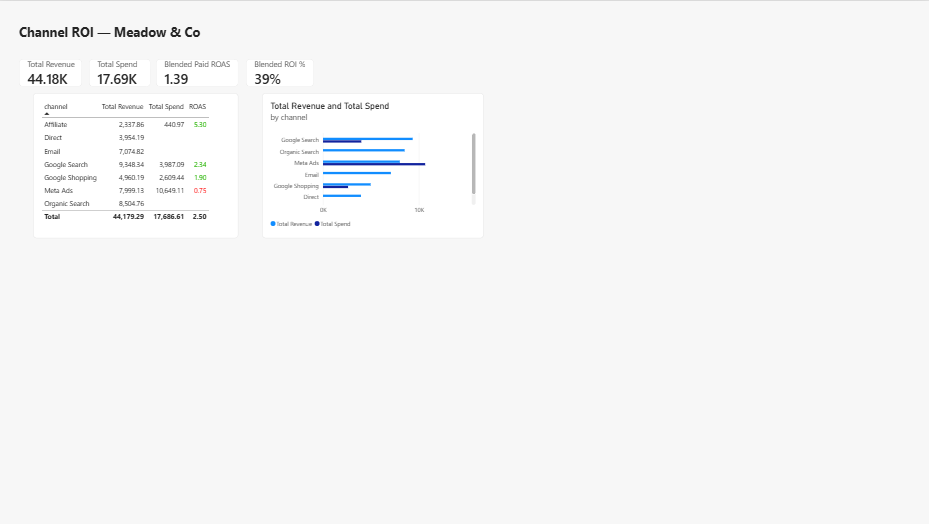

This screenshot's page, from the dashboard's own definition file:
{"tool":"powerbi","page":{"name":"Channel ROI","canvas":[1920,1080],"ordinal":0},"visuals":[{"type":"tableEx","fields":{"Values":["Channel.channel","_Measures.Total Revenue","_Measures.Total Spend","_Measures.ROAS"]},"box":[70,190.8,424.4,300],"z":0},{"type":"cardVisual","fields":{"Data":["_Measures.Total Revenue"]},"box":[41.2,120,130,57.5],"z":1000},{"type":"cardVisual","fields":{"Data":["_Measures.Total Spend"]},"box":[185,120,127.5,57.5],"z":2000},{"type":"cardVisual","fields":{"Data":["_Measures.Blended Paid ROAS"]},"box":[325,120,170,57.5],"z":3000},{"type":"cardVisual","fields":{"Data":["_Measures.Blended ROI %"]},"box":[510,120,140,57.8],"z":4000},{"type":"clusteredBarChart","fields":{"Category":["Channel.channel"],"Y":["_Measures.Total Revenue","_Measures.Total Spend"]},"box":[542,190,458,300],"z":5000},{"type":"textbox","box":[41.1,44.4,378,46],"z":6000}]}

Visuals, with their boxes in screenshot pixels (x1, y1, x2, y2), scaled from the page's 1920x1080 canvas onto the 929x524 screenshot:
tableEx - Channel.channel x _Measures.Total Revenue: [34, 93, 239, 238]
cardVisual - _Measures.Total Revenue: [20, 58, 83, 86]
cardVisual - _Measures.Total Spend: [90, 58, 151, 86]
cardVisual - _Measures.Blended Paid ROAS: [157, 58, 240, 86]
cardVisual - _Measures.Blended ROI %: [247, 58, 315, 86]
clusteredBarChart - Channel.channel x _Measures.Total Revenue: [262, 92, 484, 238]
textbox: [20, 22, 203, 44]
